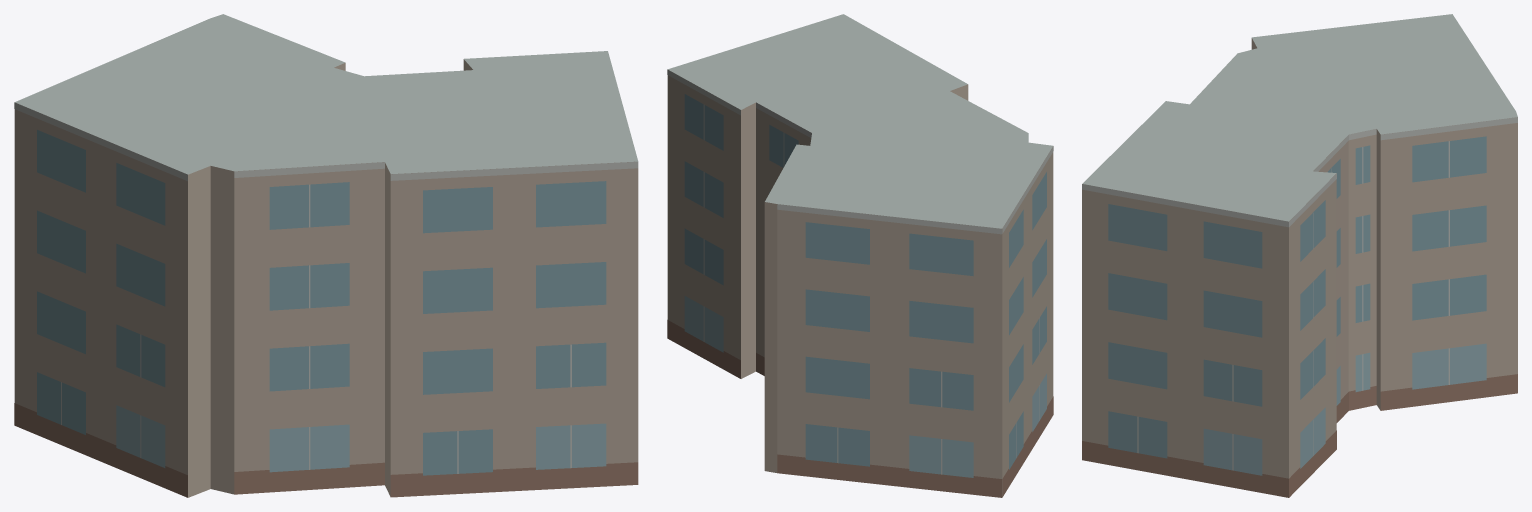
File: survey-upis-32564703.glb
3 views of the same model, side by side, from view 1: azimuth 30°, elevation 25°; view 2: azimuth 150°, elevation 25°; view 3: azimuth 270°, elevation 25° (orthographic). The views are drawn at different scales.
Parts seen in each view (by area): view 1: survey-upis-32564703.tmp; view 2: survey-upis-32564703.tmp; view 3: survey-upis-32564703.tmp.
Boxes of the visible parts, x1,y1,x2,y2 form: survey-upis-32564703.tmp: (14,14,638,497); survey-upis-32564703.tmp: (667,14,1053,497); survey-upis-32564703.tmp: (1082,14,1517,497).
Size of the model in its own units: 18.86 by 11.7 by 16.73.
